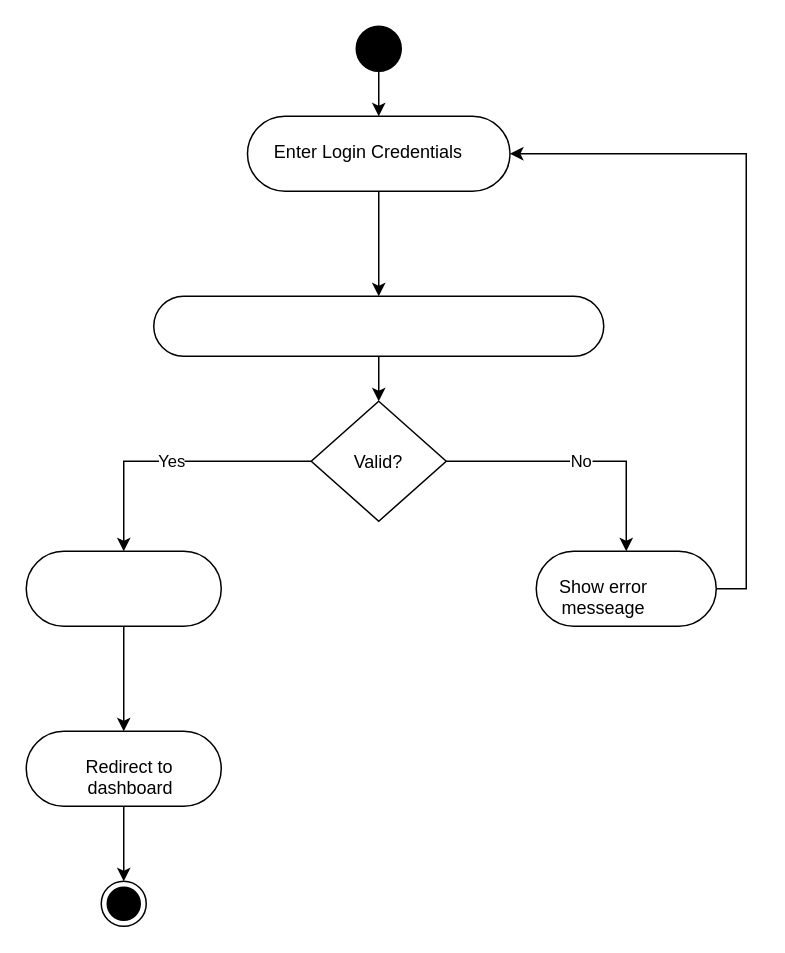
Some shapes in this 785 by 953 pixel diagram are drawn without their labels. The shapes that lost their labels are listed below. From the top down, each one's centre as x and y in pixels, then its label:
At (378,325): "Validate credentials(Username & password)".
At (123,588): "Create Session user Logged in".
